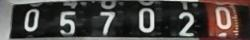digits: (177, 11, 195, 36), (137, 7, 155, 32), (214, 6, 232, 29), (58, 11, 76, 34), (98, 11, 115, 34), (24, 8, 40, 31)
